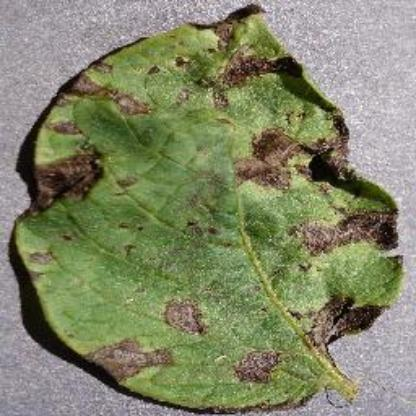Early-Blight: (8, 2, 416, 414)
